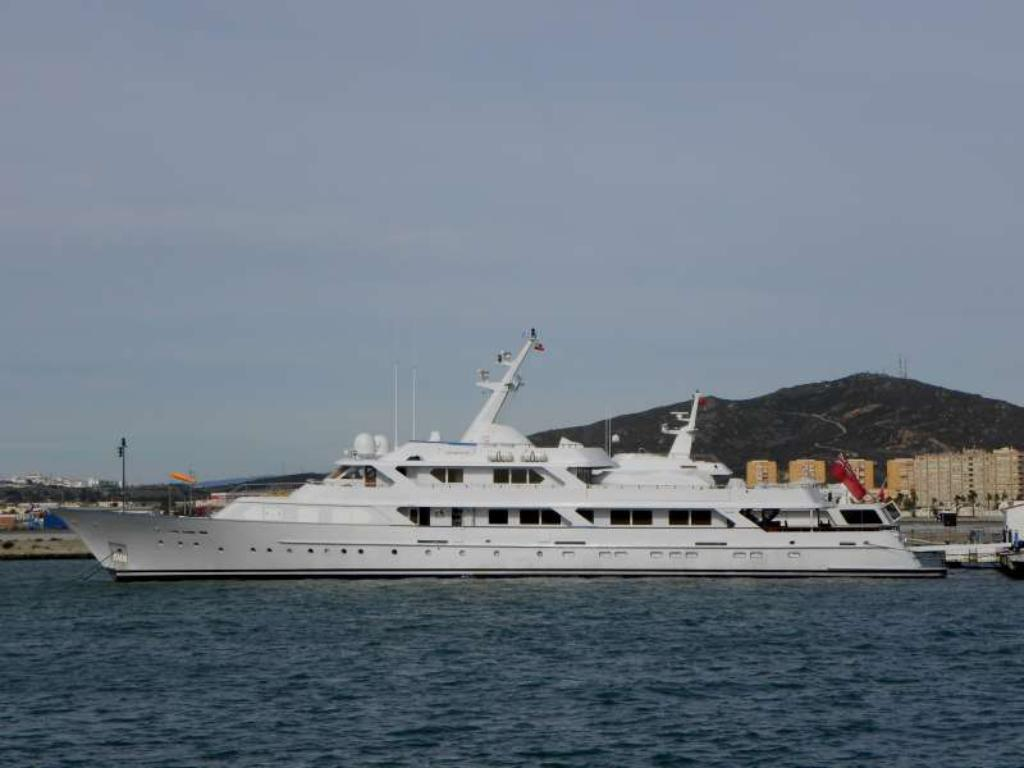PassengerShip: (41, 324, 971, 594)
